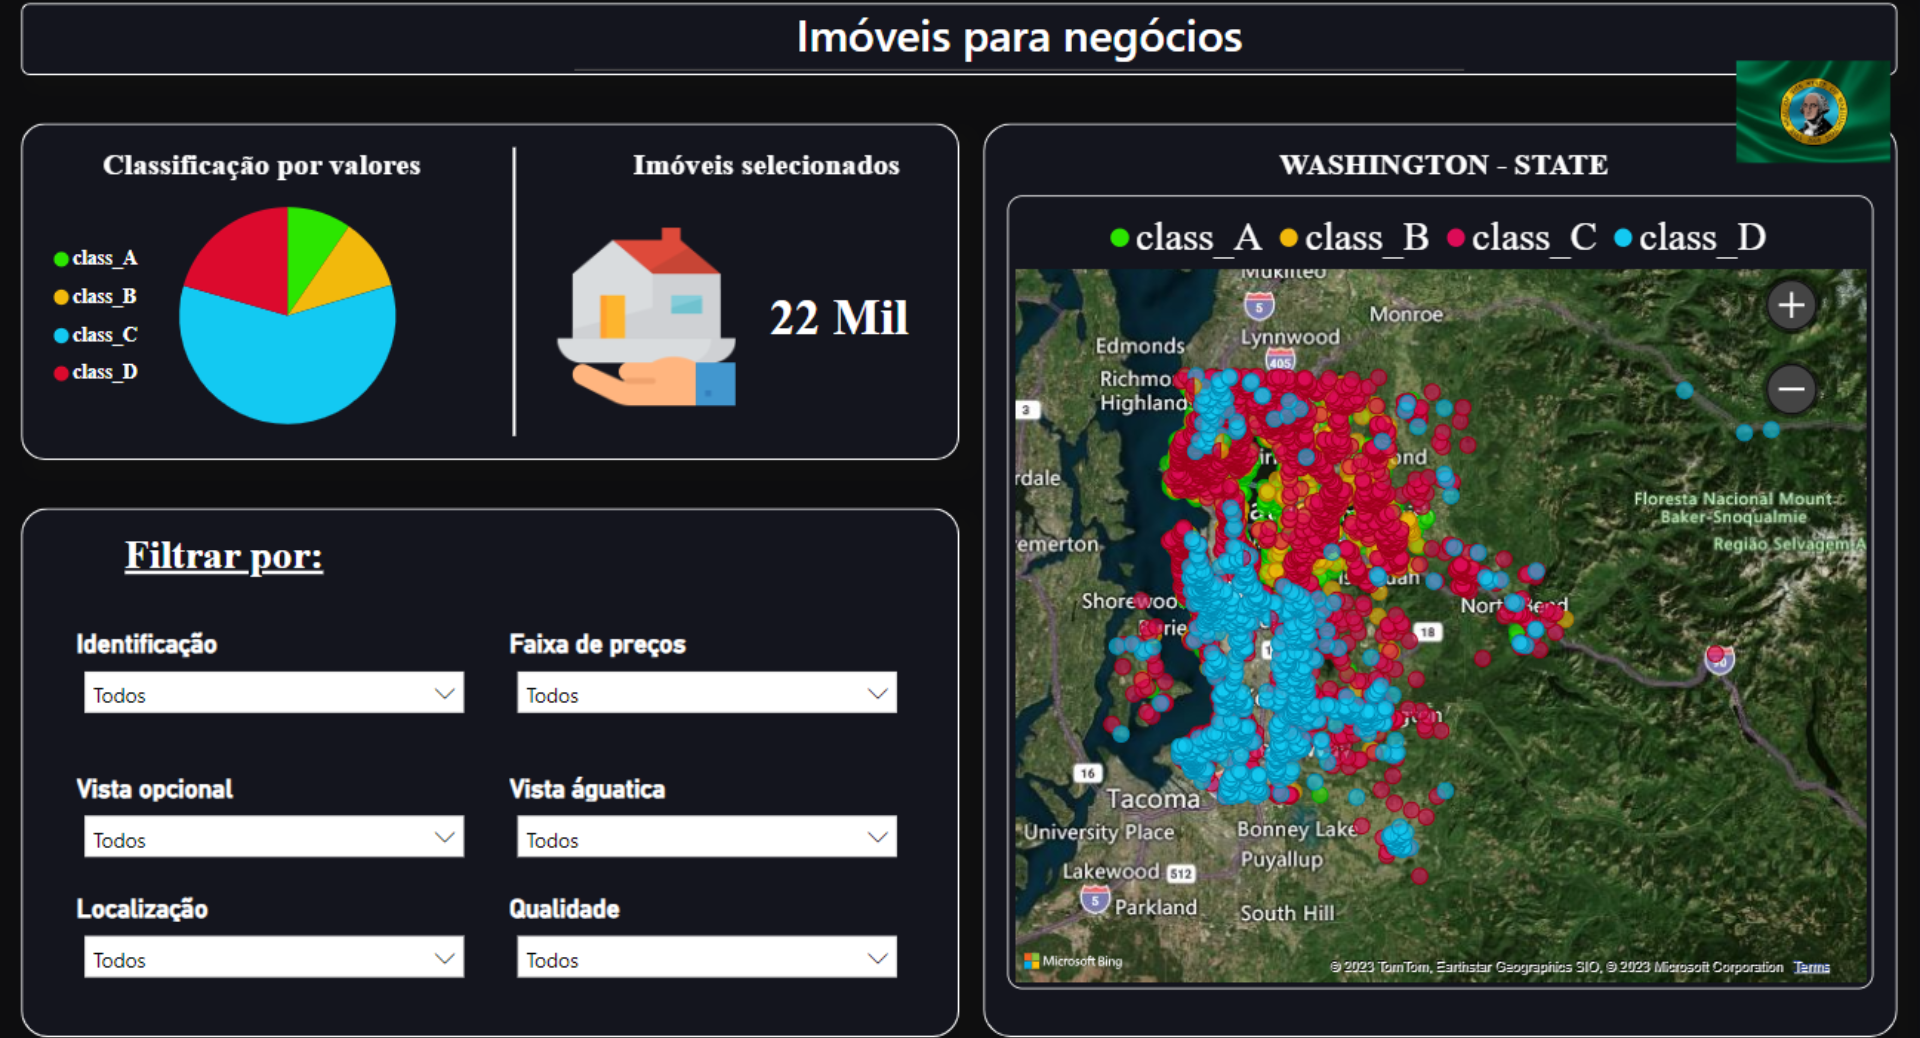

Layout of this report page (visuals, bound fields, positions):
{"tool":"powerbi","page":{"name":"Imoveis","canvas":[1280,720],"ordinal":1},"visuals":[{"type":"shape","box":[0,0,1280,720],"z":0},{"type":"shape","title":"sssssssssssssss","box":[16,352,624,352],"z":1000},{"type":"shape","box":[16,96,624,224],"z":2000},{"type":"shape","box":[192,112,304,192],"z":3000},{"type":"shape","box":[16,16,1248,48],"z":4000},{"type":"shape","box":[656,96,608,608],"z":5000},{"type":"card","title":"Quantidade Imoveis","fields":{"Values":["tabelaImovel.QuantidadeImoveis"]},"box":[496,176,128,96],"z":6000},{"type":"slicer","title":"Faixa de preços","fields":{"Values":["tabelaImovel.price"]},"box":[336,432,272,64],"z":7000},{"type":"slicer","title":"Localização","fields":{"Values":["tabelaImovel.zipcode"]},"box":[48,608,272,64],"z":8000},{"type":"slicer","title":"Vista opcional","fields":{"Values":["tabelaImovel.view"]},"box":[48,528,272,64],"z":9000},{"type":"slicer","title":"Vista águatica","fields":{"Values":["tabelaImovel.waterfront"]},"box":[336,528,272,64],"z":10000},{"type":"map","fields":{"Y":["tabelaImovel.lat"],"X":["tabelaImovel.long"],"Series":["tabelaImovel.class"]},"box":[672,144,576,528],"z":11000},{"type":"slicer","title":"Identificação","fields":{"Values":["tabelaImovel.id"]},"box":[48,432,272,64],"z":12000},{"type":"slicer","title":"Qualidade","fields":{"Values":["tabelaImovel.condition"]},"box":[336,608,272,64],"z":13000},{"type":"pieChart","title":"Classificação de Imóveis","fields":{"Category":["tabelaImovel.class"],"Y":["CountNonNull(tabelaImovel.class)"]},"box":[32,128,256,192],"z":14000},{"type":"textbox","title":"Imóveis para negócios ","box":[384,16,592,48],"z":15000},{"type":"textbox","title":"Filtrar por:","box":[80,368,160,32],"z":16000},{"type":"textbox","title":"WASHINGTON - STATE","box":[848,112,240,32],"z":17000},{"type":"image","box":[368,153,128,144],"z":18000},{"type":"textbox","title":"Imóveis selecionados","box":[416,112,192,32],"z":19000},{"type":"image","box":[1152,48,112,80],"z":20000},{"type":"textbox","title":"Classificação por valores","box":[64,112,224,32],"z":21000}]}

Visuals, with their boxes on the page's 1280x720 design canvas (x1, y1, x2, y2). These are canvas units, not pixel positions in the 1920x1038 screenshot, which may show the page scaled, cropped or inside an application window:
shape: left=0, top=0, right=1280, bottom=720
"sssssssssssssss" shape: left=16, top=352, right=640, bottom=704
shape: left=16, top=96, right=640, bottom=320
shape: left=192, top=112, right=496, bottom=304
shape: left=16, top=16, right=1264, bottom=64
shape: left=656, top=96, right=1264, bottom=704
"Quantidade Imoveis" card: left=496, top=176, right=624, bottom=272
"Faixa de preços" slicer: left=336, top=432, right=608, bottom=496
"Localização" slicer: left=48, top=608, right=320, bottom=672
"Vista opcional" slicer: left=48, top=528, right=320, bottom=592
"Vista águatica" slicer: left=336, top=528, right=608, bottom=592
map - tabelaImovel.lat x tabelaImovel.long: left=672, top=144, right=1248, bottom=672
"Identificação" slicer: left=48, top=432, right=320, bottom=496
"Qualidade" slicer: left=336, top=608, right=608, bottom=672
"Classificação de Imóveis" pieChart: left=32, top=128, right=288, bottom=320
"Imóveis para negócios " textbox: left=384, top=16, right=976, bottom=64
"Filtrar por:" textbox: left=80, top=368, right=240, bottom=400
"WASHINGTON - STATE" textbox: left=848, top=112, right=1088, bottom=144
image: left=368, top=153, right=496, bottom=297
"Imóveis selecionados" textbox: left=416, top=112, right=608, bottom=144
image: left=1152, top=48, right=1264, bottom=128
"Classificação por valores" textbox: left=64, top=112, right=288, bottom=144
